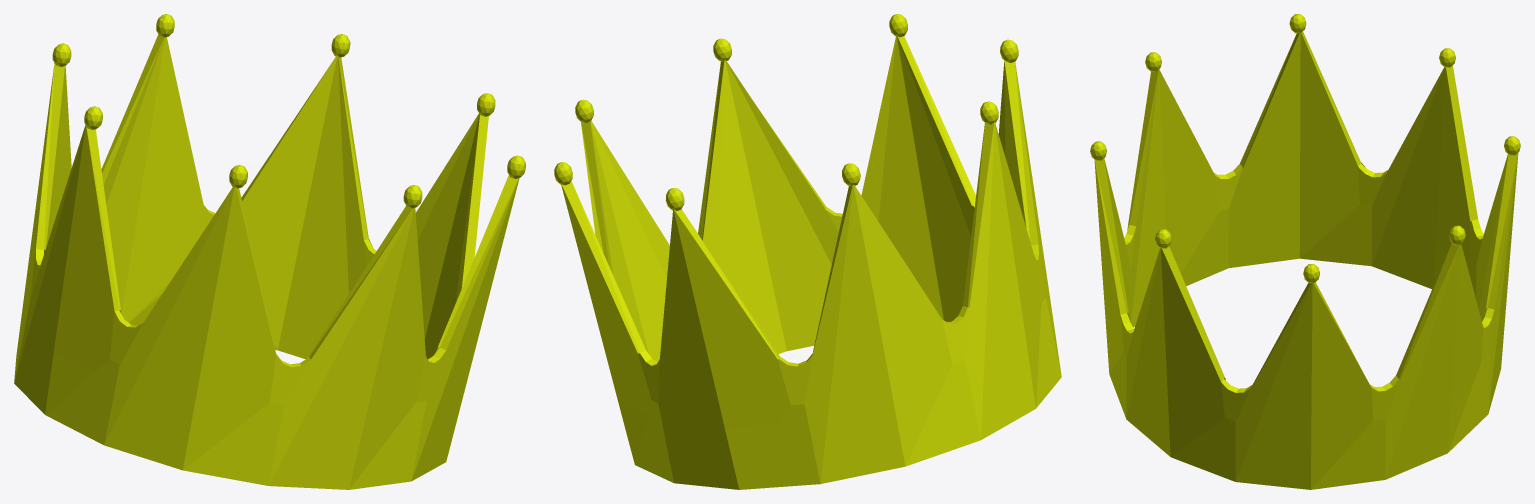
File: kruna.fbx
3 renders of one model, left to right at view 1: azimuth 30°, elevation 25°; view 2: azimuth 150°, elevation 25°; view 3: azimuth 270°, elevation 25°, orthographic. The views are drawn at different scales.
Parts seen in each view (by area): view 1: Cylinder; view 2: Cylinder; view 3: Cylinder.
Part boxes in pixels (x1,y1,x2,y2): Cylinder: (14, 14, 525, 489); Cylinder: (554, 14, 1061, 489); Cylinder: (1090, 14, 1520, 489).
Bounding box in the file's own units: 37.98 × 30.4 × 35.48.
